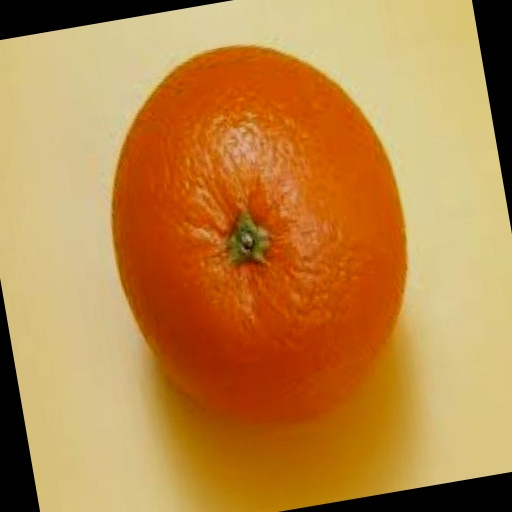fruit: (324, 78, 490, 405)
